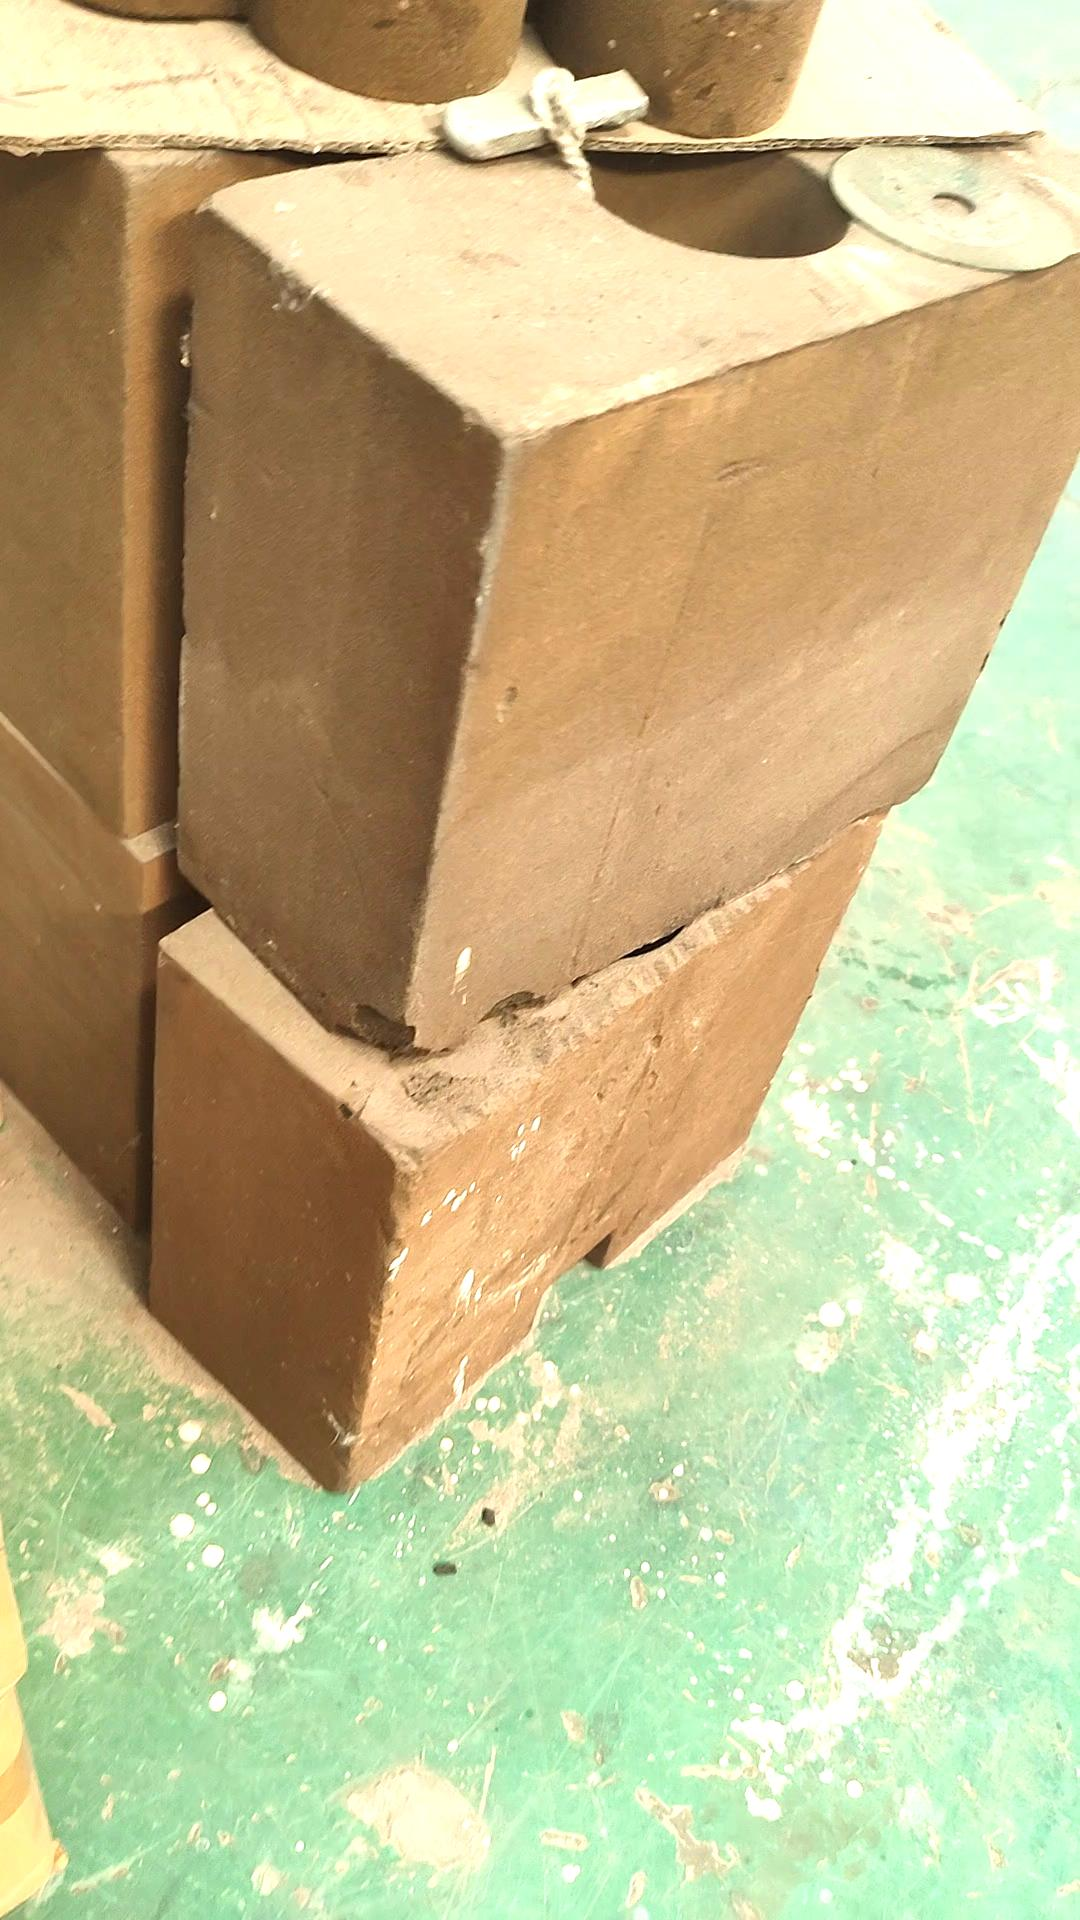pouring hole: (560, 113, 848, 262)
